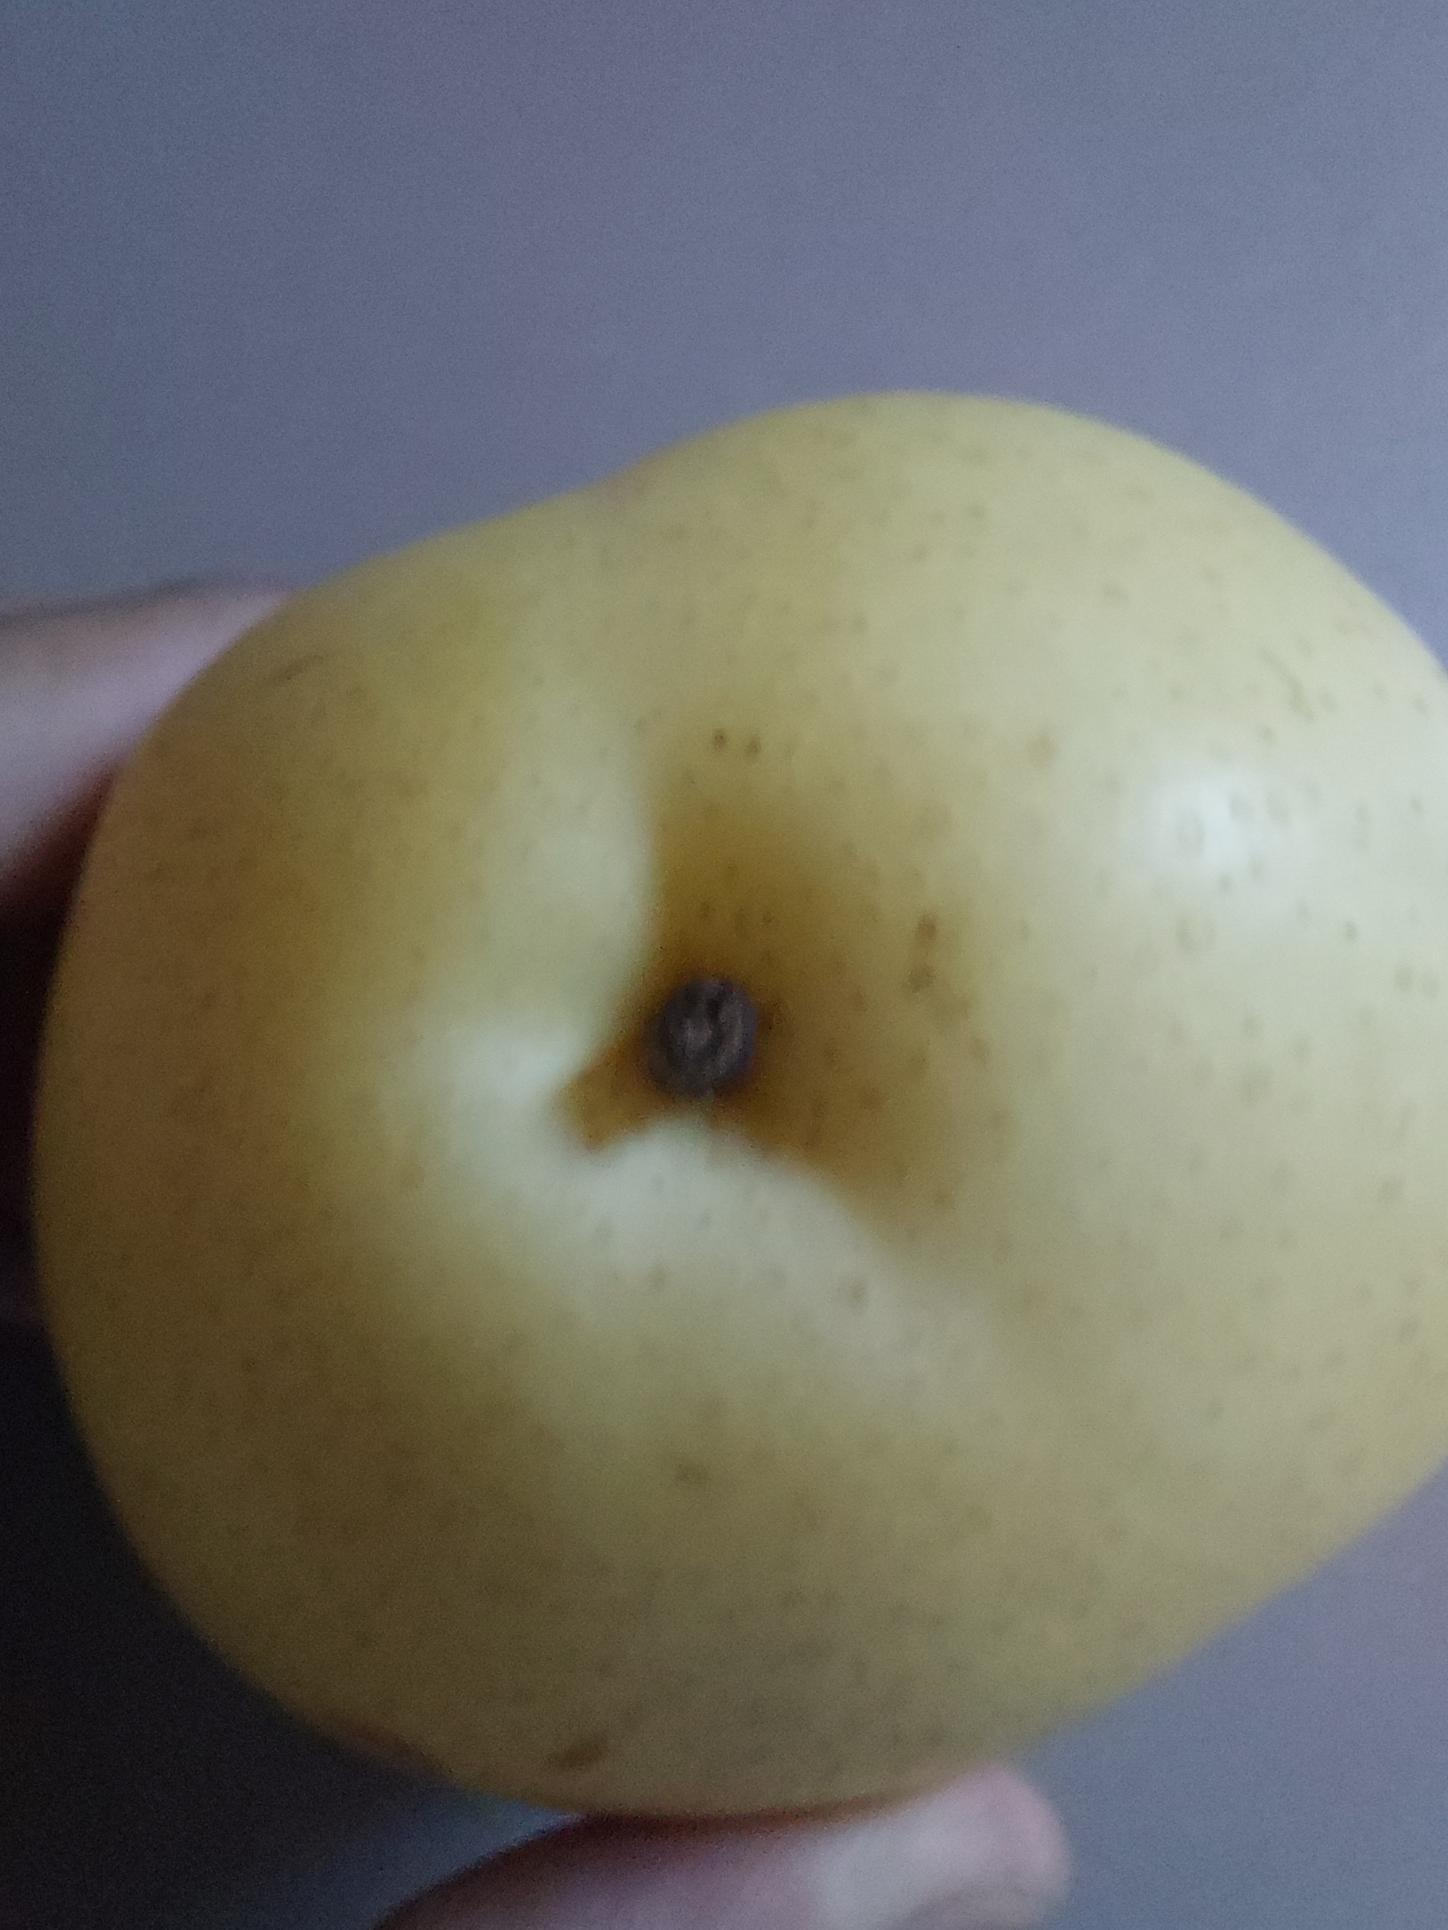Good Pear: (65, 395, 1448, 1839)
